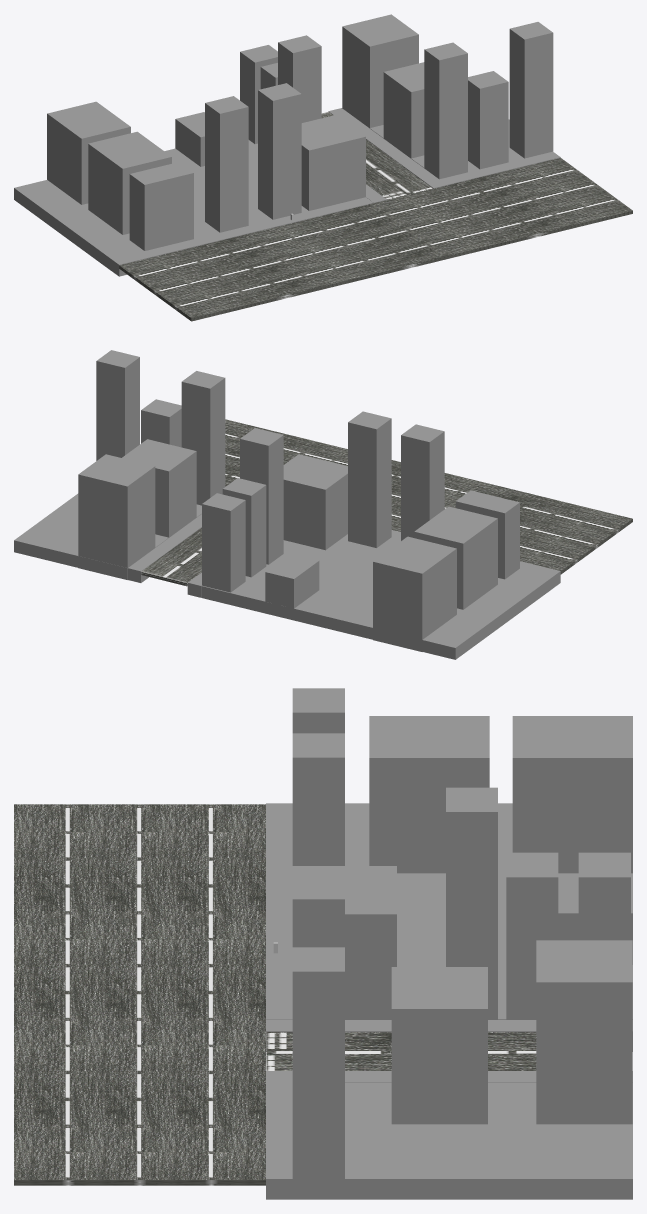
Rendered from level1.obj.
The picture shows the model from 3 angles, top to bottom: view 1: azimuth 30°, elevation 25°; view 2: azimuth 150°, elevation 25°; view 3: azimuth 270°, elevation 25°; orthographic projection. The views are drawn at different scales.
Parts seen in each view (by area): view 1: Cube.018, Cube.022_Cube.023, Cube.015, Cube.002, Cube.005, Cube.008, Cube.007, Cube.006, Cube.004, Cube.024_Cube.025, Cube.023_Cube.024, Cube.003 (+9 smaller); view 2: Cube.022_Cube.023, Cube.018, Cube.023_Cube.024, Cube.015, Cube.007, Cube.006, Cube.005, Cube.024_Cube.025, Cube.002, Cube.008, Cube.014, Cube.017 (+9 smaller); view 3: Cube.018, Cube.000_Cube.026, Cube.015, Cube.023_Cube.024, Cube.014, Cube.024_Cube.025, Cube.002, Cube.013, Cube.022_Cube.023, Cube.006, Cube.016, Cube.007 (+9 smaller).
Boxes of the visible parts, <box> form: Cube.018: <box>119,157,632,321</box>; Cube.022_Cube.023: <box>14,140,308,270</box>; Cube.015: <box>342,14,418,127</box>; Cube.002: <box>509,22,553,158</box>; Cube.005: <box>424,42,467,179</box>; Cube.008: <box>205,96,248,232</box>; Cube.007: <box>258,83,301,219</box>; Cube.006: <box>301,115,365,210</box>; Cube.004: <box>129,162,193,250</box>; Cube.024_Cube.025: <box>88,131,171,234</box>; Cube.023_Cube.024: <box>47,101,130,204</box>; Cube.003: <box>468,71,508,169</box>; Cube.022_Cube.023: <box>201,534,552,659</box>; Cube.018: <box>225,419,632,574</box>; Cube.023_Cube.024: <box>373,536,456,651</box>; Cube.015: <box>78,454,155,579</box>; Cube.007: <box>348,411,391,547</box>; Cube.006: <box>283,454,347,550</box>; Cube.005: <box>181,371,225,505</box>; Cube.024_Cube.025: <box>414,506,497,609</box>; Cube.002: <box>96,350,139,460</box>; Cube.008: <box>401,424,444,540</box>; Cube.014: <box>122,439,196,537</box>; Cube.017: <box>202,493,245,592</box>; Cube.018: <box>14,804,265,1185</box>; Cube.000_Cube.026: <box>345,1082,632,1199</box>; Cube.015: <box>536,940,632,1124</box>; Cube.023_Cube.024: <box>512,716,632,873</box>; Cube.014: <box>391,967,487,1124</box>; Cube.024_Cube.025: <box>369,716,489,873</box>; Cube.002: <box>292,947,344,1199</box>; Cube.013: <box>446,787,497,1019</box>; Cube.022_Cube.023: <box>345,803,632,1019</box>; Cube.006: <box>292,866,396,1019</box>; Cube.016: <box>506,852,558,1019</box>; Cube.007: <box>292,733,344,865</box>.
Bounding box in the file's own units: 14.71 × 4.17 × 10.24.
4 materials, 2 textured.
